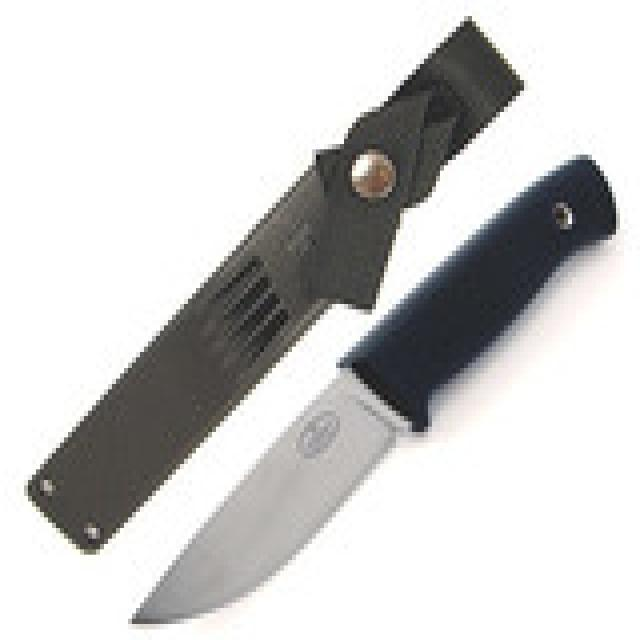Knife: (26, 12, 640, 624)
